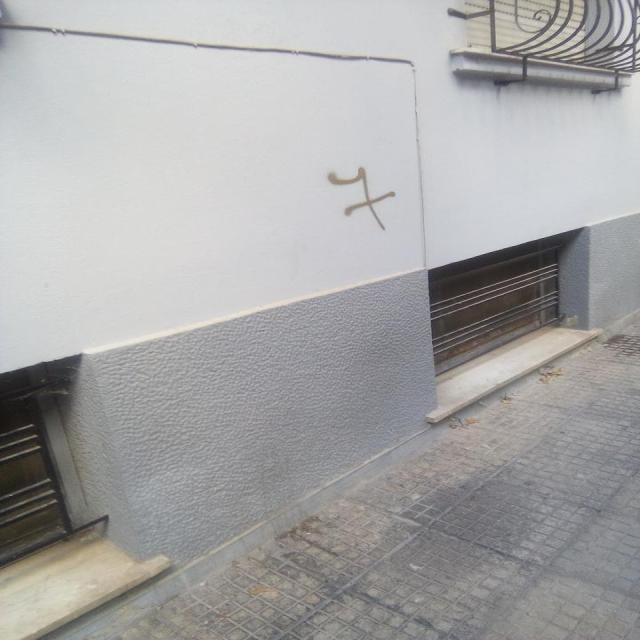nonspitting: (329, 164, 393, 231)
